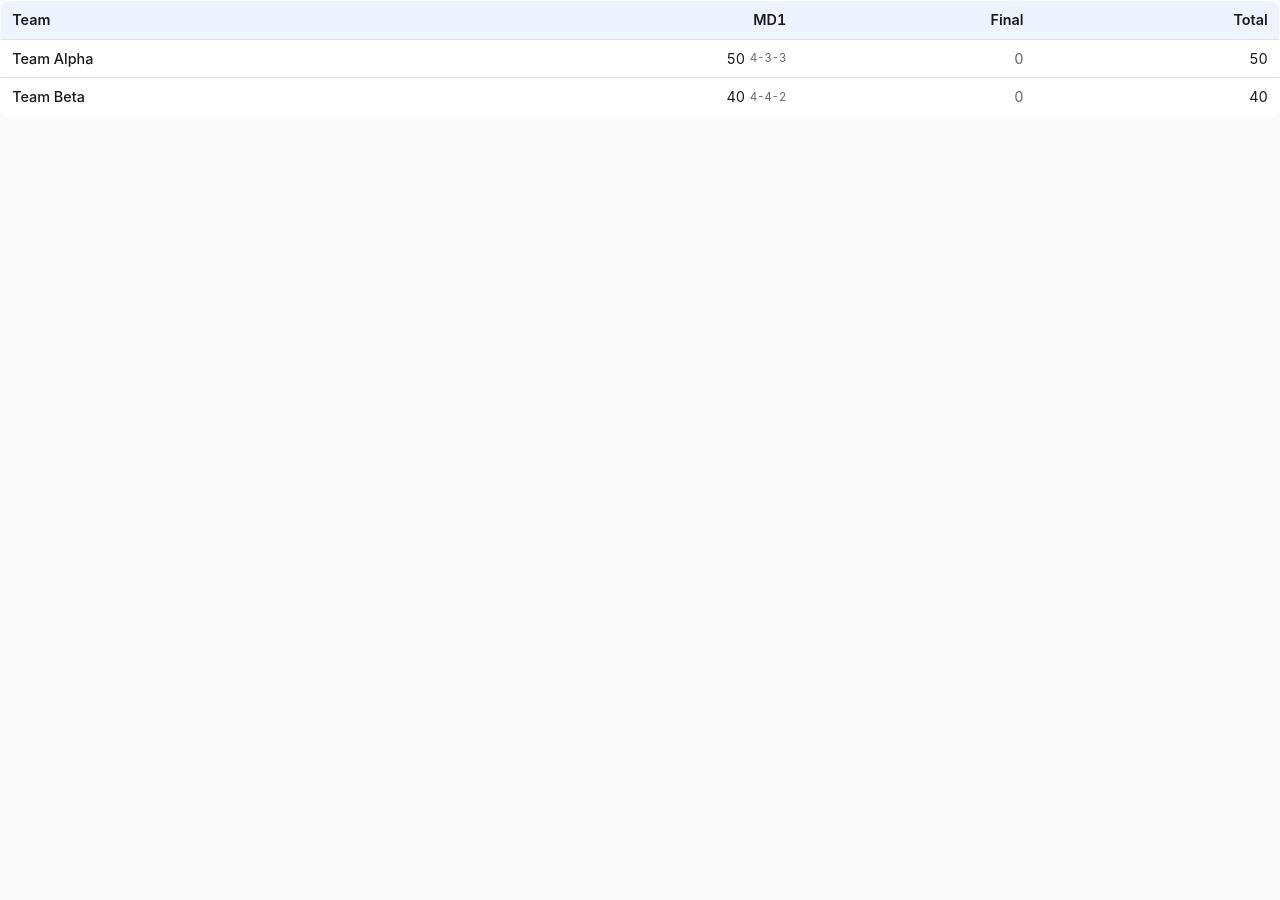
StandingsPeriodTable › opens an overlay revealing that team's XI for the period
Click the button "50 4-3-3". click: [768, 58]
box: [446,40,798,77]
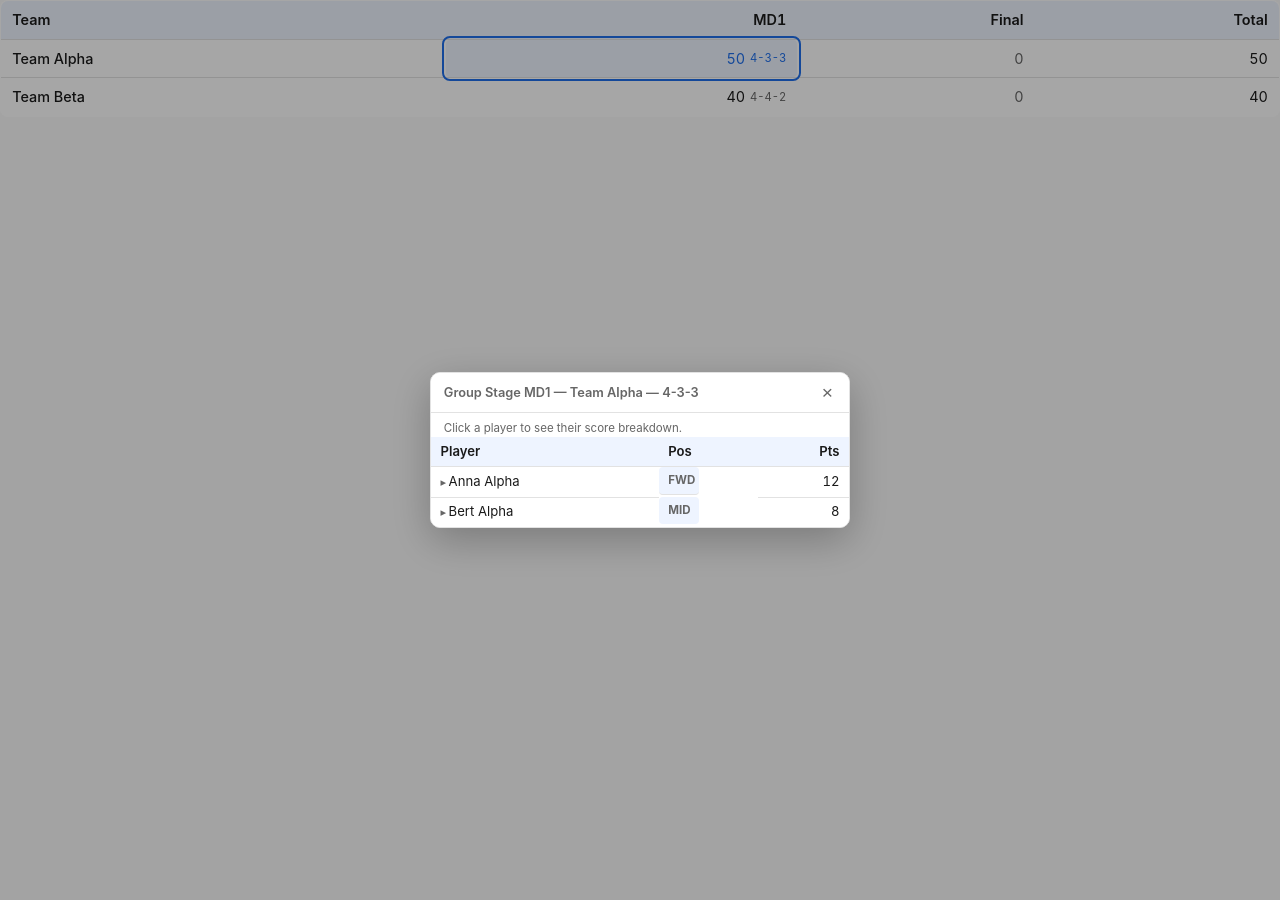
Expected: the text "Group Stage MD1 — Team Alpha — 4-3-3" is shown, [444,383,699,402]
Expected: the button "▸ Anna Alpha" is shown, [441,472,520,492]
Expected: the button "▸ Bert Alpha" is shown, [441,502,513,522]
